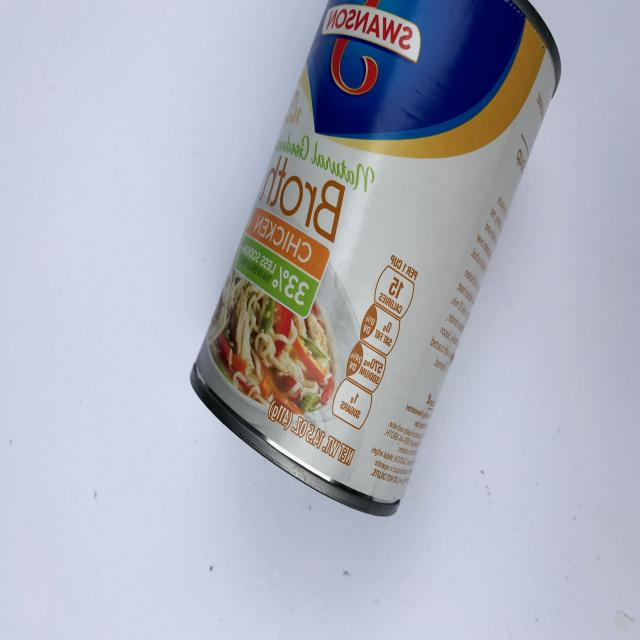metal: (189, 0, 562, 517)
